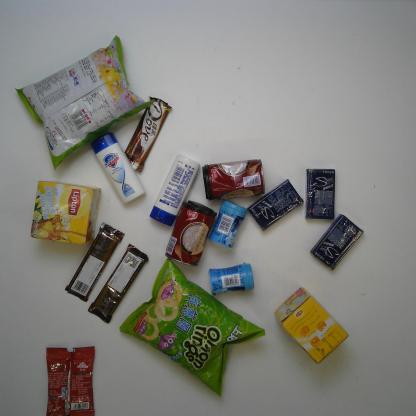Canned Food: (164, 200, 219, 265), (202, 158, 266, 200)
Chocolate: (87, 243, 149, 324), (65, 222, 124, 302), (118, 95, 172, 176)
Gum: (310, 214, 364, 268), (247, 180, 303, 230), (209, 201, 247, 248), (305, 168, 335, 218), (209, 263, 254, 295)
Instant Drink: (274, 286, 350, 364), (30, 181, 100, 245), (45, 347, 96, 412)
Personal Hygiene: (91, 134, 145, 205), (149, 154, 200, 226)
Puffed Food: (119, 255, 266, 397), (15, 35, 152, 171)
